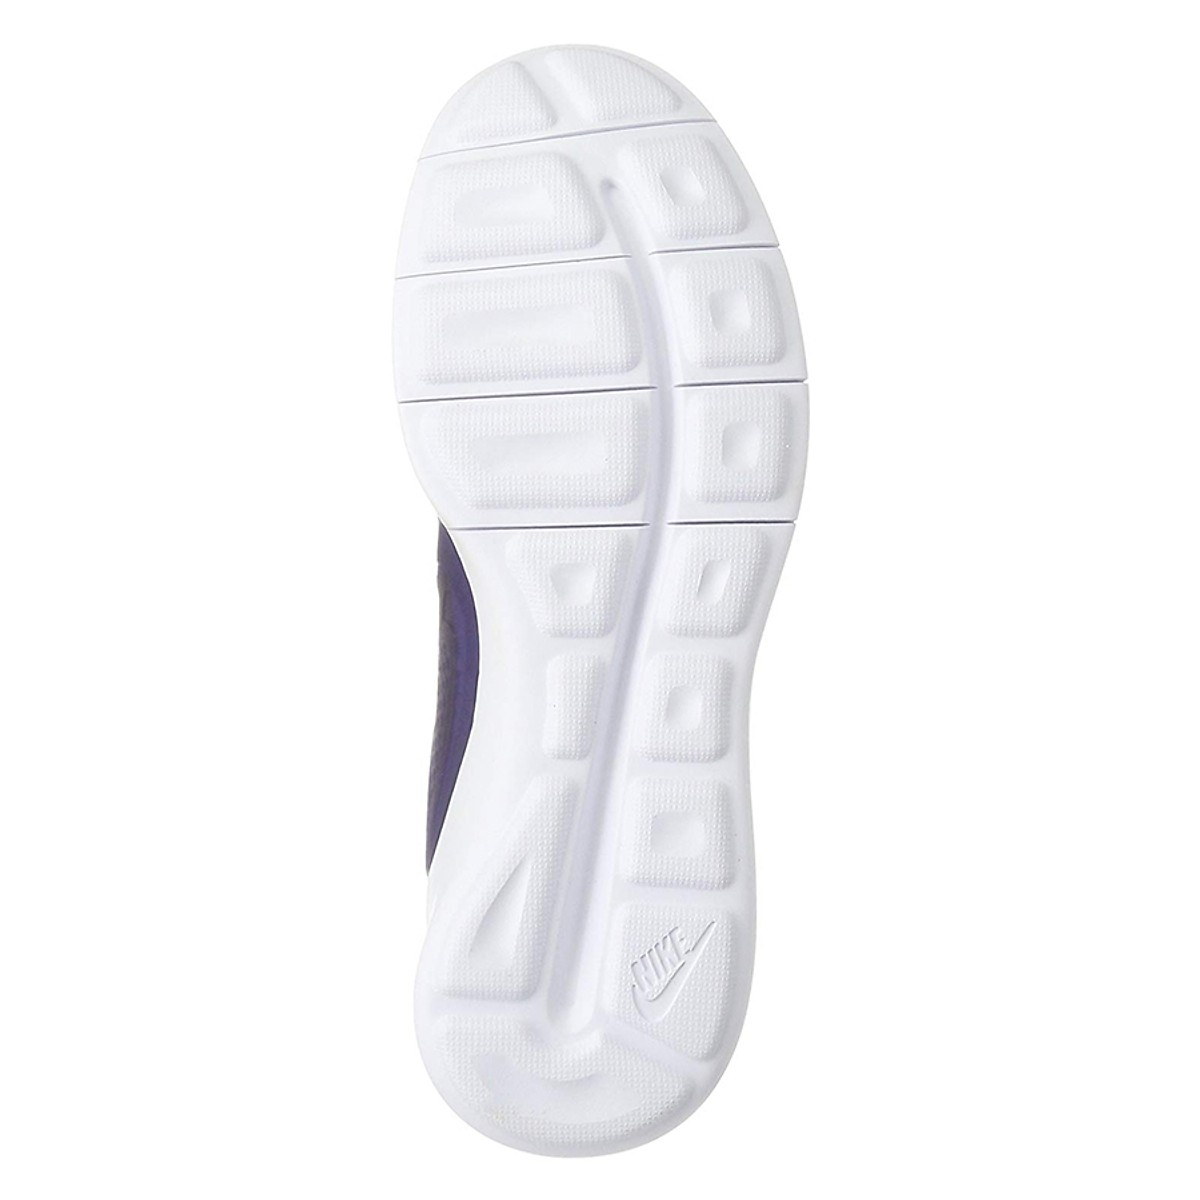Nike: (573, 875, 855, 1098)
